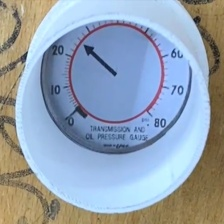gauge: (43, 23, 191, 155)
